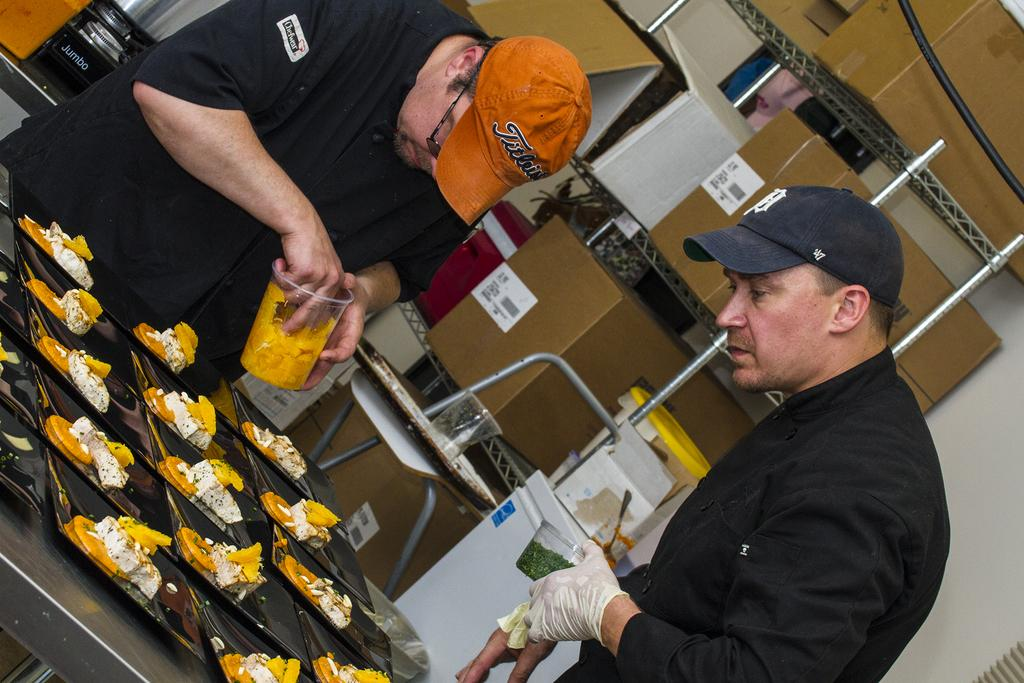Hat: (432, 38, 589, 228), (682, 183, 900, 305)
